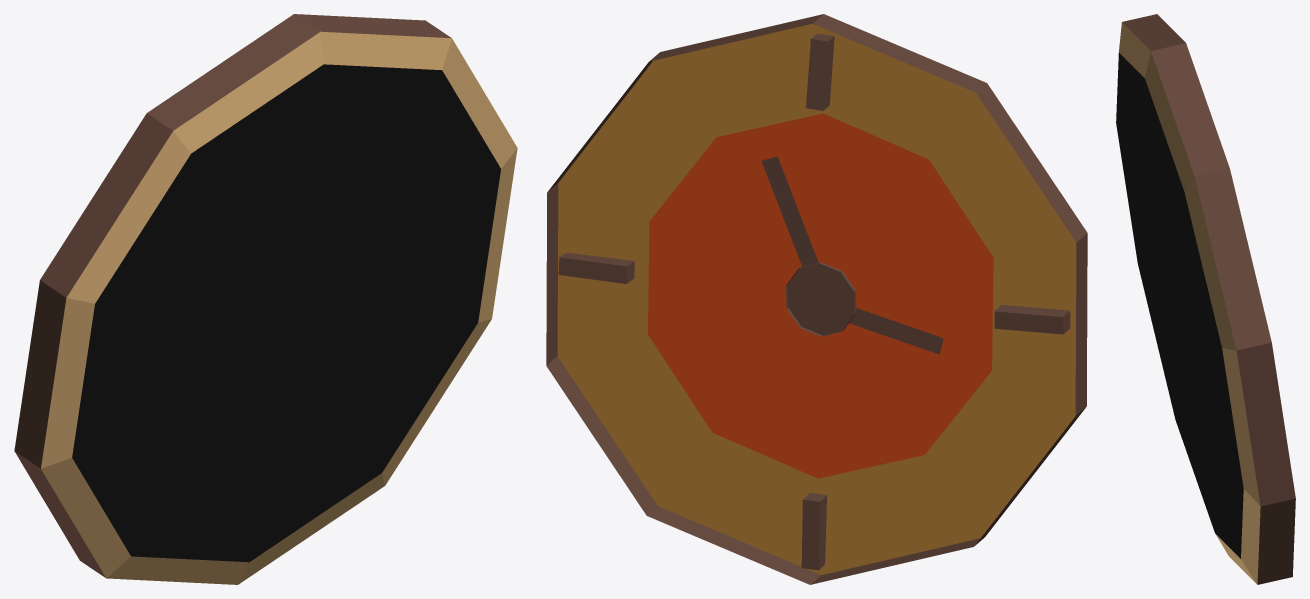
File: clock.gltf
3 renders of one model, left to right at view 1: azimuth 30°, elevation 25°; view 2: azimuth 150°, elevation 25°; view 3: azimuth 270°, elevation 25°, orthographic. The views are drawn at different scales.
Visible parts, largest first — view 1: node_MeshObject-1477125248-PolyPaper20; view 2: node_MeshObject-1477125248-PolyPaper20; view 3: node_MeshObject-1477125248-PolyPaper20.
Part boxes in pixels (x1,y1,x2,y2): node_MeshObject-1477125248-PolyPaper20: (14,14,517,584); node_MeshObject-1477125248-PolyPaper20: (546,14,1087,584); node_MeshObject-1477125248-PolyPaper20: (1116,14,1295,584).
Bounding box in the file's own units: 0.2288 × 0.2369 × 0.0732.
